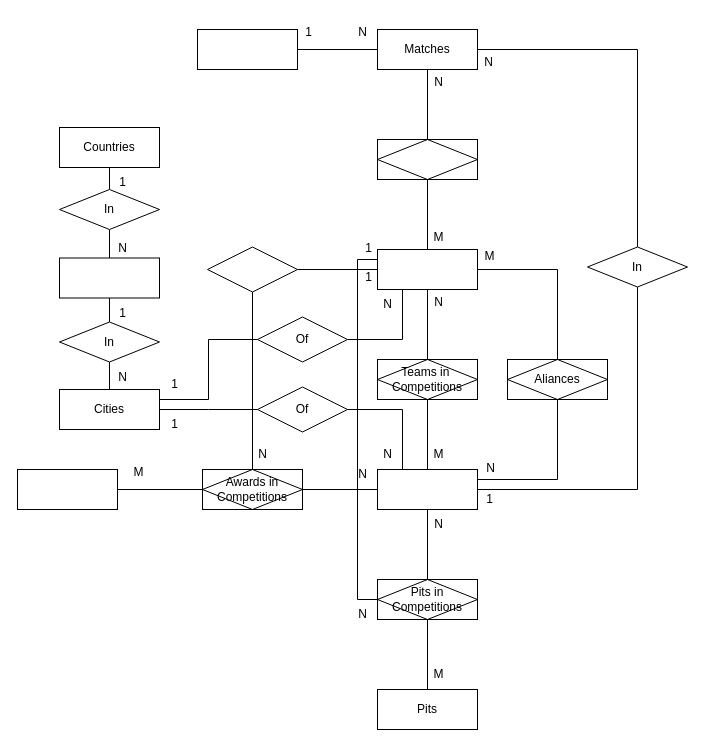
Image size: 705x747. Some labels were removed from this diagram. Each missing label, with the centre of its shape:
Awards: [67,489]
Awards of Teams in Competition: [252,269]
Competitions: [427,489]
Districts: [109,277]
Match Type: [247,49]
Teams: [427,269]
Teams in Matches: [427,159]
